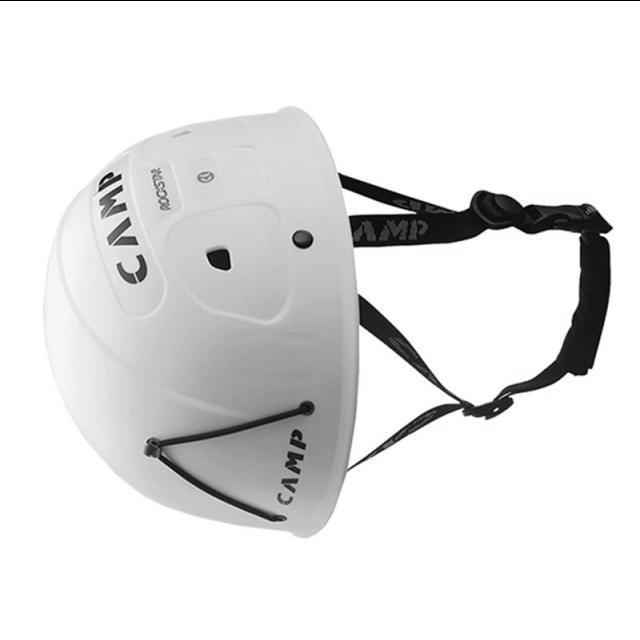safety_helmet: (42, 103, 362, 539)
